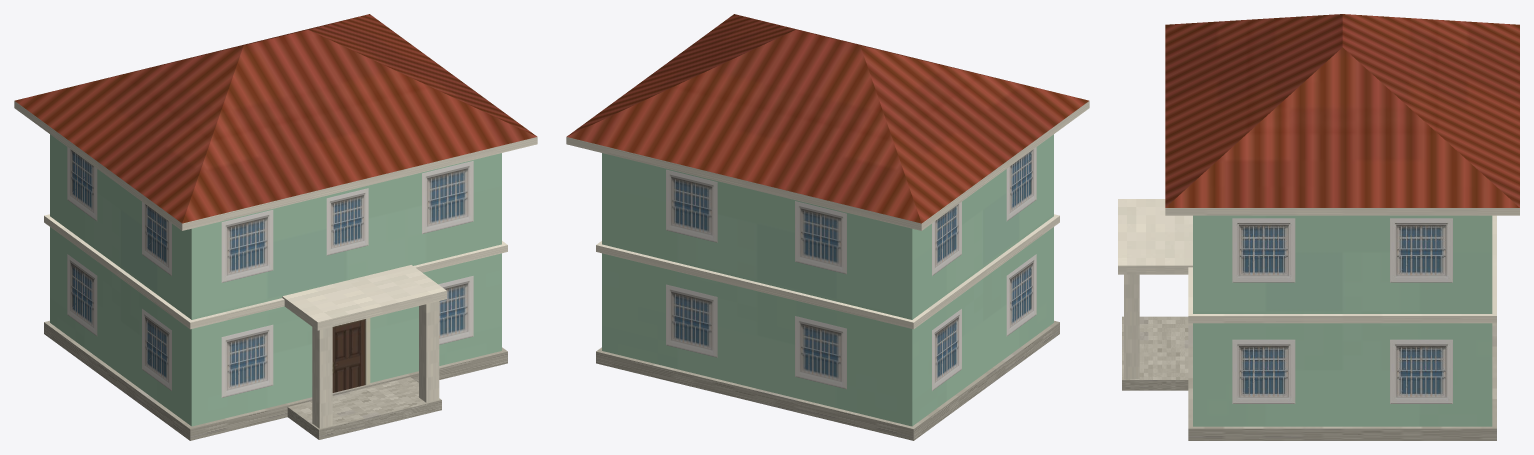
The model's file is house2-mint-far.glb.
3 views of the same model, side by side, from view 1: azimuth 30°, elevation 25°; view 2: azimuth 150°, elevation 25°; view 3: azimuth 270°, elevation 25° (orthographic). The views are drawn at different scales.
Visible parts, largest first — view 1: house2-mint; view 2: house2-mint; view 3: house2-mint.
Boxes of the visible parts, left/top/right/bottom form: house2-mint: left=14, top=14, right=537, bottom=440; house2-mint: left=566, top=14, right=1089, bottom=440; house2-mint: left=1118, top=14, right=1519, bottom=440.
Bounding box in the file's own units: 11 × 9.2 × 10.2.
1 material, 1 textured.
